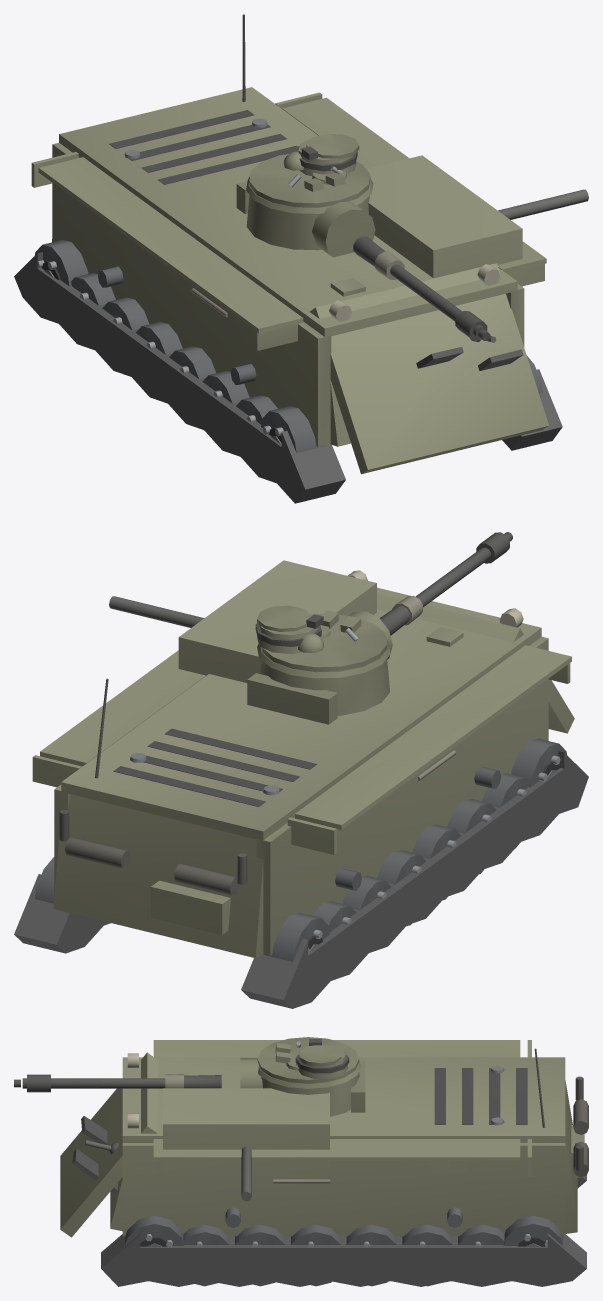
File: m3lee.glb
The picture shows the model from 3 angles, top to bottom: view 1: azimuth 30°, elevation 25°; view 2: azimuth 150°, elevation 25°; view 3: azimuth 270°, elevation 25°; orthographic projection. The views are drawn at different scales.
Visible parts, largest first — view 1: hullSide, hullTop, glacis, tracks, turretRoof, barrel, turretFront, mantlet, wheel6, wheel7, wheel1, wheel3 (+6 smaller); view 2: hullSide, hullTop, hullRear, tracks, turretRoof, glacis, turretFront, turretRear, barrel, wheel7, wheel6, wheel3 (+7 smaller); view 3: hullSide, hullTop, tracks, glacis, turretRoof, hullRear, barrel, wheel14, wheel15, turretFront, wheel12, wheel11 (+8 smaller).
Boxes of the visible parts, x1=… form: hullSide: x1=31, y1=92, x2=588, y2=447; hullTop: x1=59, y1=87, x2=517, y2=337; glacis: x1=309, y1=263, x2=548, y2=474; tracks: x1=14, y1=252, x2=562, y2=503; turretRoof: x1=249, y1=134, x2=370, y2=207; barrel: x1=353, y1=236, x2=490, y2=340; turretFront: x1=246, y1=195, x2=369, y2=250; mantlet: x1=312, y1=201, x2=375, y2=257; wheel6: x1=261, y1=406, x2=325, y2=452; wheel7: x1=34, y1=240, x2=88, y2=286; wheel1: x1=102, y1=297, x2=149, y2=330; wheel3: x1=169, y1=346, x2=216, y2=379; hullSide: x1=32, y1=560, x2=571, y2=955; hullTop: x1=61, y1=587, x2=541, y2=840; hullRear: x1=53, y1=678, x2=265, y2=958; tracks: x1=14, y1=751, x2=588, y2=1008; turretRoof: x1=255, y1=605, x2=387, y2=672; glacis: x1=377, y1=593, x2=574, y2=733; turretFront: x1=259, y1=658, x2=389, y2=715; turretRear: x1=247, y1=673, x2=337, y2=724; barrel: x1=379, y1=532, x2=512, y2=635; wheel7: x1=263, y1=912, x2=329, y2=961; wheel6: x1=511, y1=738, x2=566, y2=787; wheel3: x1=412, y1=824, x2=461, y2=900; hullSide: x1=122, y1=1040, x2=565, y2=1236; hullTop: x1=122, y1=1057, x2=565, y2=1142; tracks: x1=101, y1=1175, x2=586, y2=1286; glacis: x1=60, y1=1052, x2=190, y2=1237; turretRoof: x1=257, y1=1037, x2=359, y2=1083; hullRear: x1=534, y1=1048, x2=588, y2=1233; barrel: x1=14, y1=1074, x2=221, y2=1092; wheel14: x1=125, y1=1215, x2=184, y2=1247; wheel15: x1=503, y1=1215, x2=562, y2=1247; turretFront: x1=261, y1=1072, x2=359, y2=1116; wheel12: x1=235, y1=1225, x2=285, y2=1286; wheel11: x1=291, y1=1225, x2=341, y2=1286.
Bounding box in the file's own units: 5.16 × 3.35 × 8.05.
